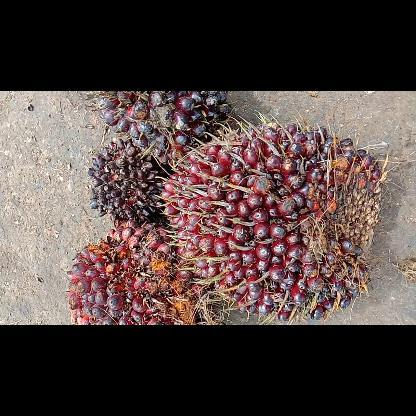Kurang masak: (155, 120, 387, 322), (84, 92, 232, 166)
TBS abnormal: (86, 136, 172, 224)
TBS masak: (63, 223, 210, 324)
